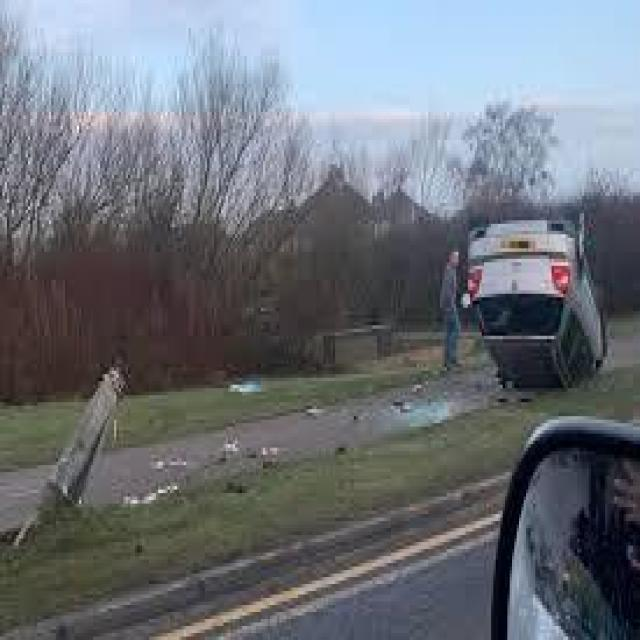severe: (462, 215, 614, 394)
